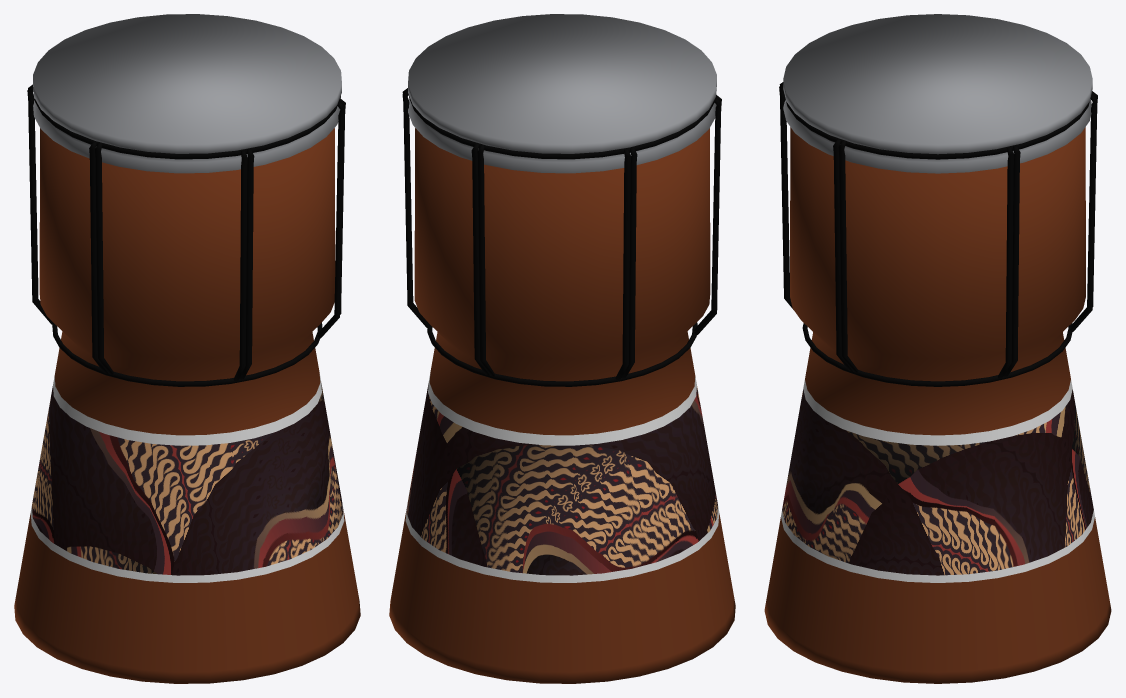
Rendered from gendang.fbx.
The picture shows the model from 3 angles, left to right: view 1: azimuth 30°, elevation 25°; view 2: azimuth 150°, elevation 25°; view 3: azimuth 270°, elevation 25°; orthographic projection.
Visible parts, largest first — view 1: Cylinder, Cylinder.002, Cylinder.005, Cylinder.003, Cylinder.001; view 2: Cylinder, Cylinder.002, Cylinder.005, Cylinder.003, Cylinder.001; view 3: Cylinder, Cylinder.002, Cylinder.005, Cylinder.003, Cylinder.001.
Part boxes in pixels (x1,y1,x2,y2): Cylinder: (14,128,360,683); Cylinder.002: (33,14,341,173); Cylinder.005: (27,84,345,380); Cylinder.003: (52,322,322,386); Cylinder.001: (34,96,340,159); Cylinder: (389,128,735,683); Cylinder.002: (408,14,716,173); Cylinder.005: (402,88,721,379); Cylinder.003: (427,322,697,386); Cylinder.001: (409,96,714,159); Cylinder: (764,127,1111,683); Cylinder.002: (783,14,1092,173); Cylinder.005: (779,82,1097,378); Cylinder.003: (802,323,1072,386); Cylinder.001: (786,101,1089,159).
Size of the model in its own units: 59.51 by 101 by 59.51.
5 materials, 1 textured.
